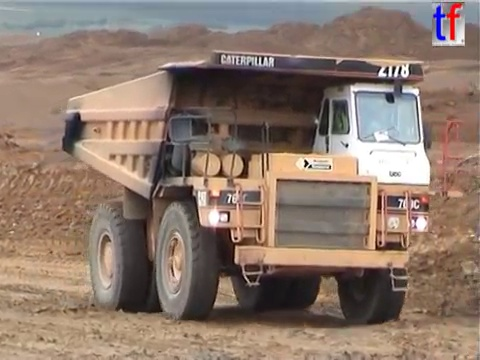truck: (57, 46, 465, 327)
